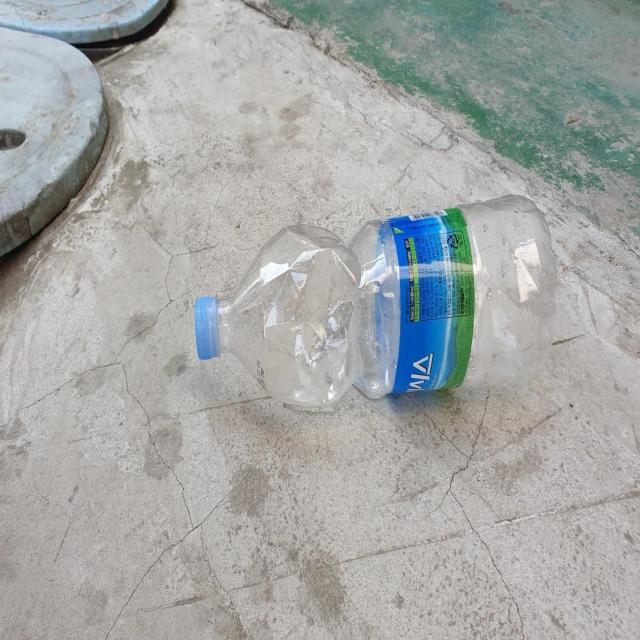plastic: (195, 194, 558, 409)
